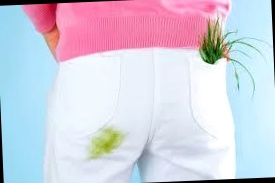earth: (89, 131, 124, 155)
